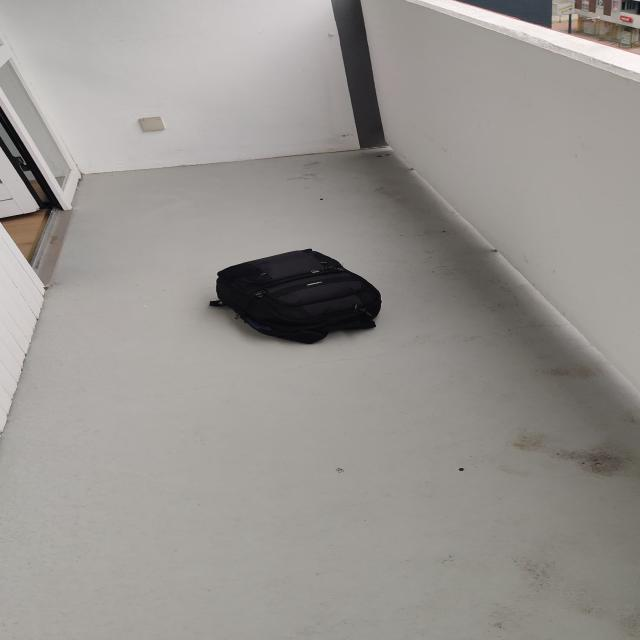backpack: (204, 246, 389, 344)
